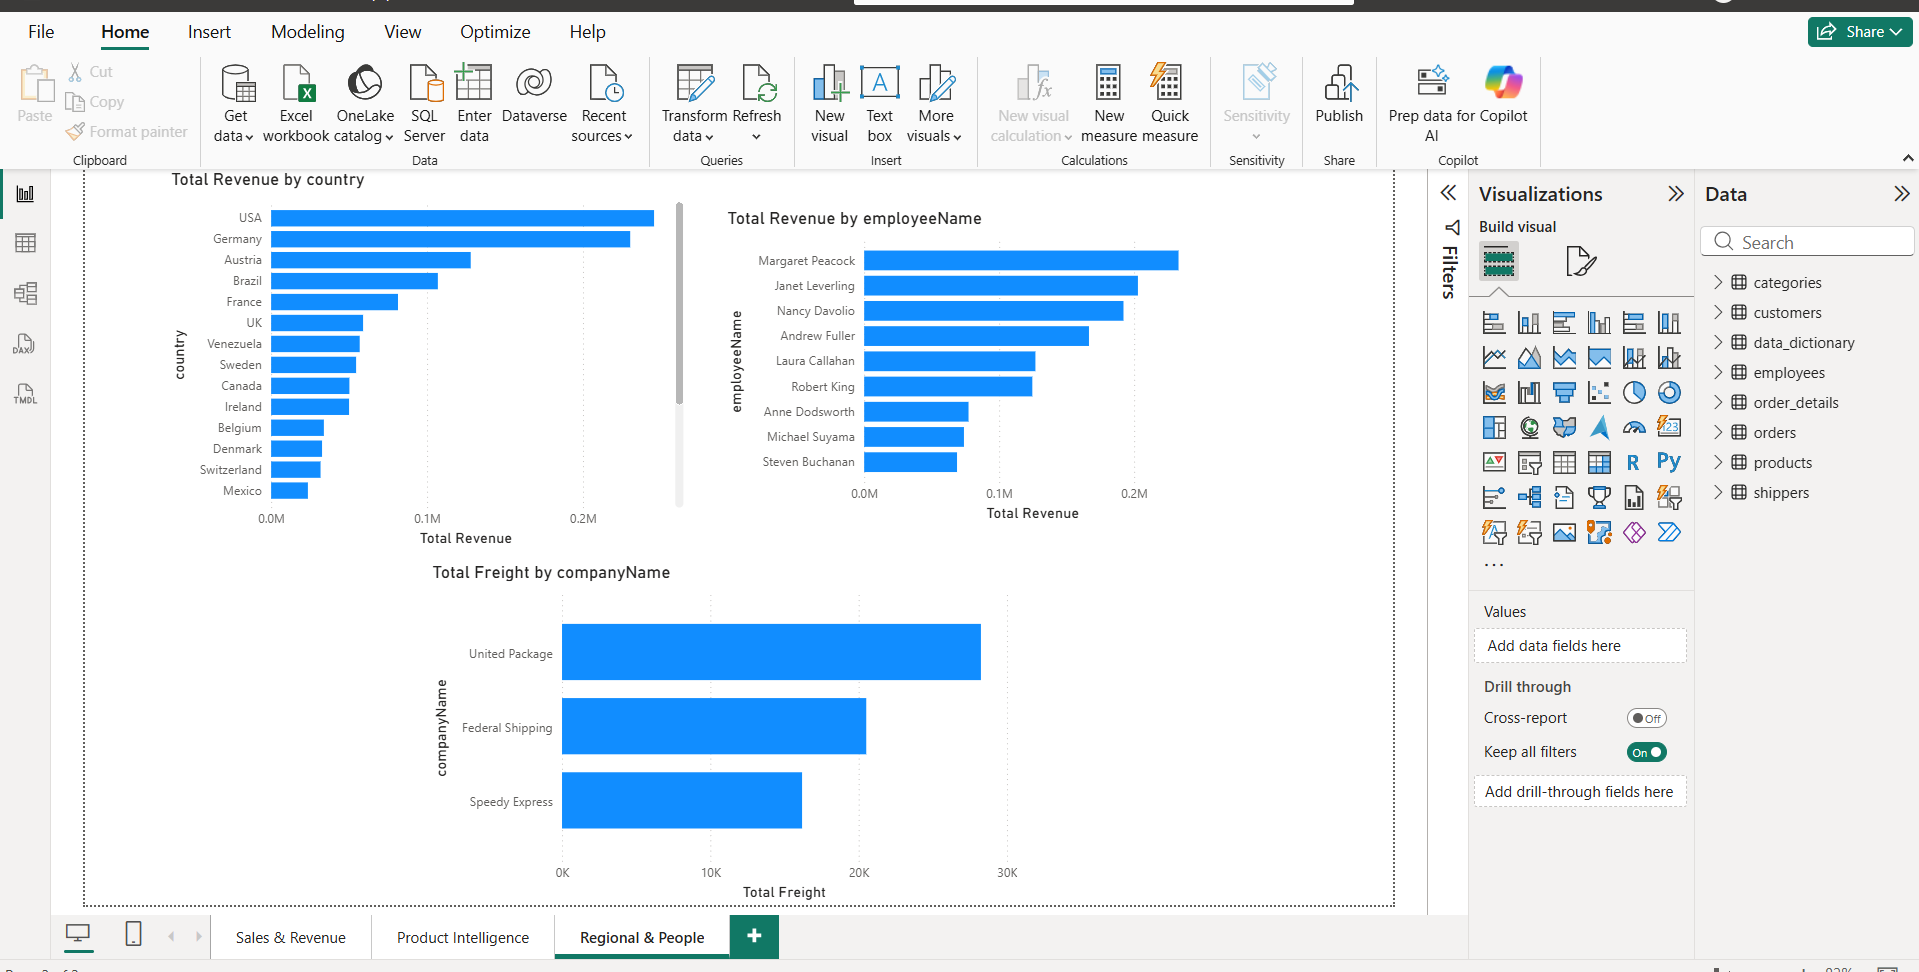

The page's visual inventory and layout, read from the dashboard file:
{"tool":"powerbi","page":{"name":"Regional & People","canvas":[1280,720],"ordinal":2},"visuals":[{"type":"clusteredBarChart","fields":{"Category":["customers.country"],"Y":["categories.Total Revenue"]},"box":[79.5,0,511.1,374.2],"z":0},{"type":"clusteredBarChart","fields":{"Category":["employees.employeeName"],"Y":["categories.Total Revenue"]},"box":[623.6,37.9,487.9,311.8],"z":1000},{"type":"clusteredBarChart","fields":{"Category":["shippers.companyName"],"Y":["categories.Total Freight"]},"box":[335.1,384,582.1,336.3],"z":2000}]}

Visuals, with their boxes on the page's 1280x720 design canvas (x1, y1, x2, y2). These are canvas units, not pixel positions in the 1919x972 screenshot, which may show the page scaled, cropped or inside an application window:
clusteredBarChart - customers.country x categories.Total Revenue: <bbox>80, 0, 591, 374</bbox>
clusteredBarChart - employees.employeeName x categories.Total Revenue: <bbox>624, 38, 1112, 350</bbox>
clusteredBarChart - shippers.companyName x categories.Total Freight: <bbox>335, 384, 917, 720</bbox>
